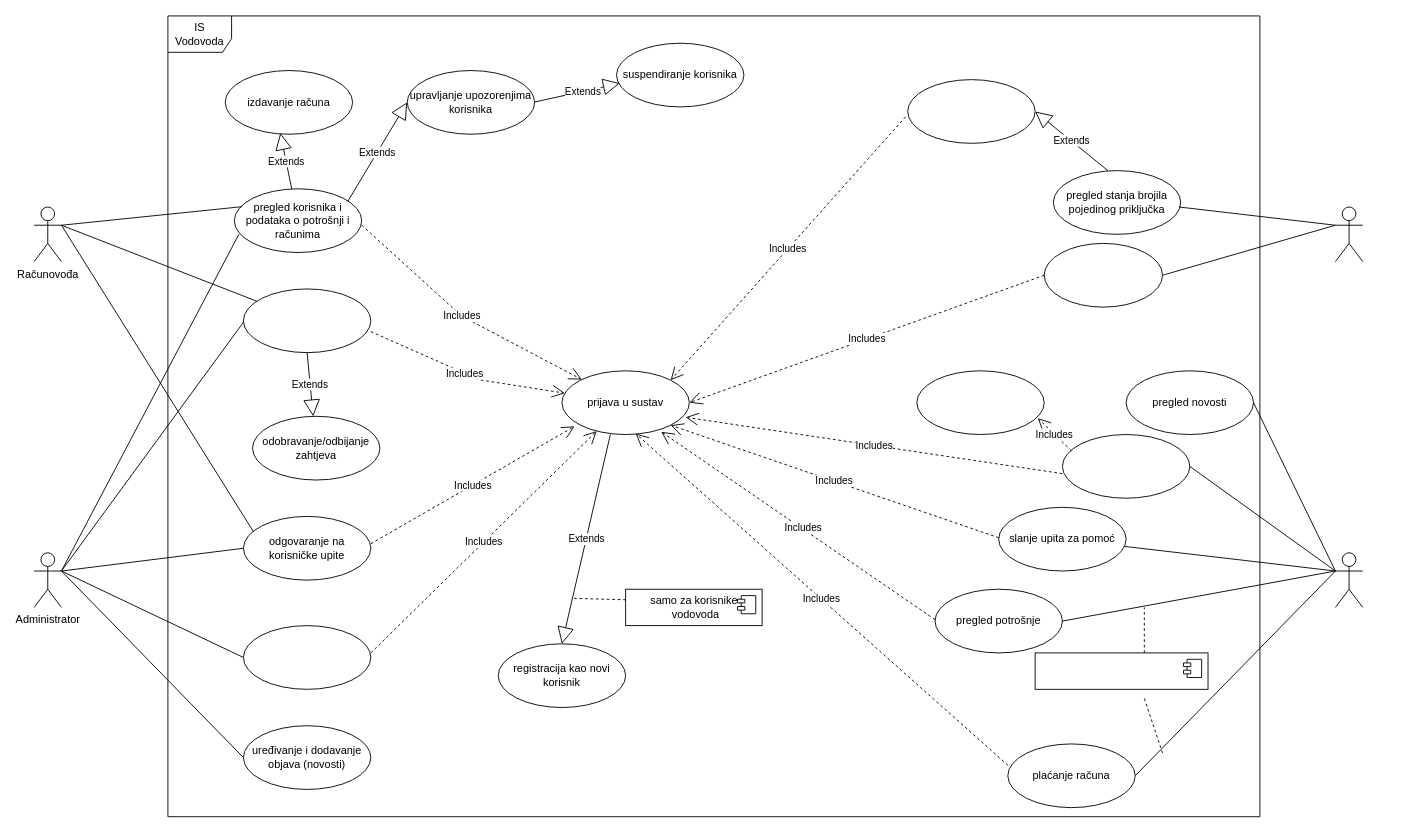
This 1410x833 diagram has some shape labels left out. The shapes that lost their labels are listed below. From the top down, each one's box as (x1, y1, x2, y2) in pixels, then its label:
(907, 79, 1035, 143): upis novog stanja brojila
(1335, 206, 1363, 262): Popisivač
(1043, 243, 1163, 307): pretraživanje priključaka i korisnika
(243, 288, 371, 353): pregled zahtjeva za novi priključak
(916, 370, 1044, 435): učitavanje potrebnih dokumenata
(1062, 434, 1190, 498): zahtjev za novi priključak
(1335, 552, 1363, 607): Korisnik vodovoda
(243, 625, 371, 689): dodavanje novih popisivača i računovođa
(1034, 652, 1208, 689): uvjet: ako je zahtjev za priključak odobren
